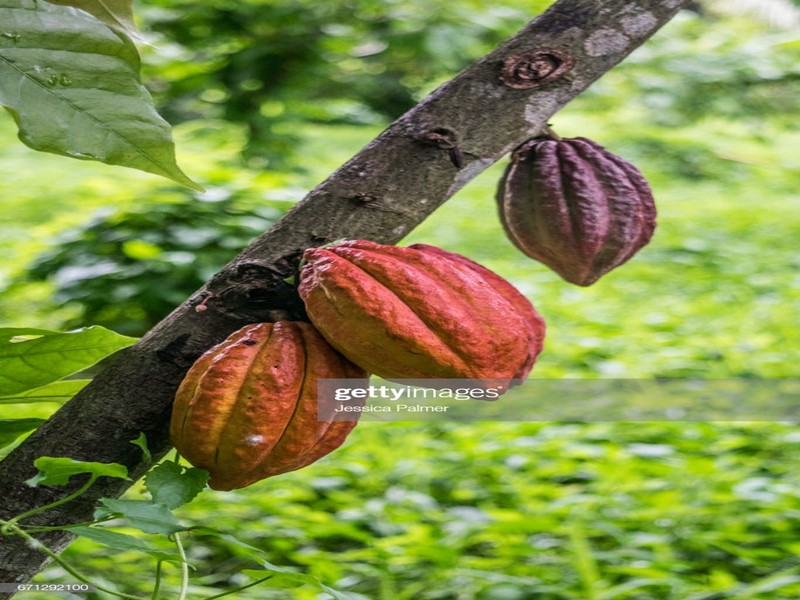Cacaopod: (295, 239, 548, 402), (494, 133, 660, 287)
